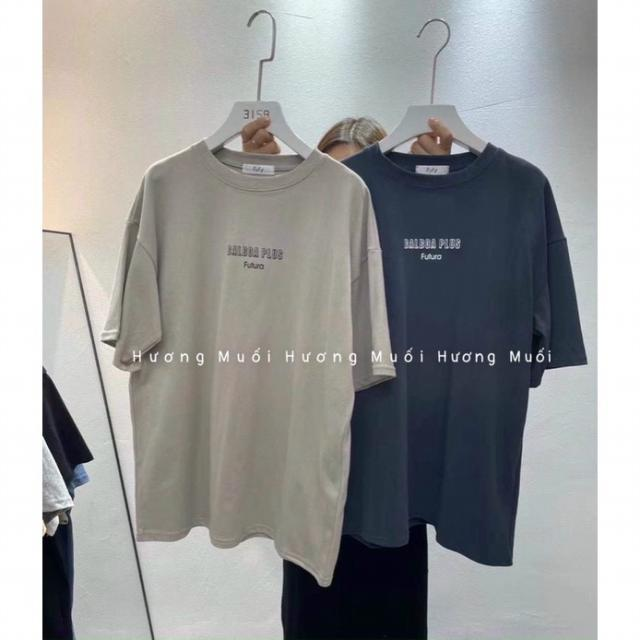Shirt: (100, 137, 393, 578), (343, 140, 586, 568)
